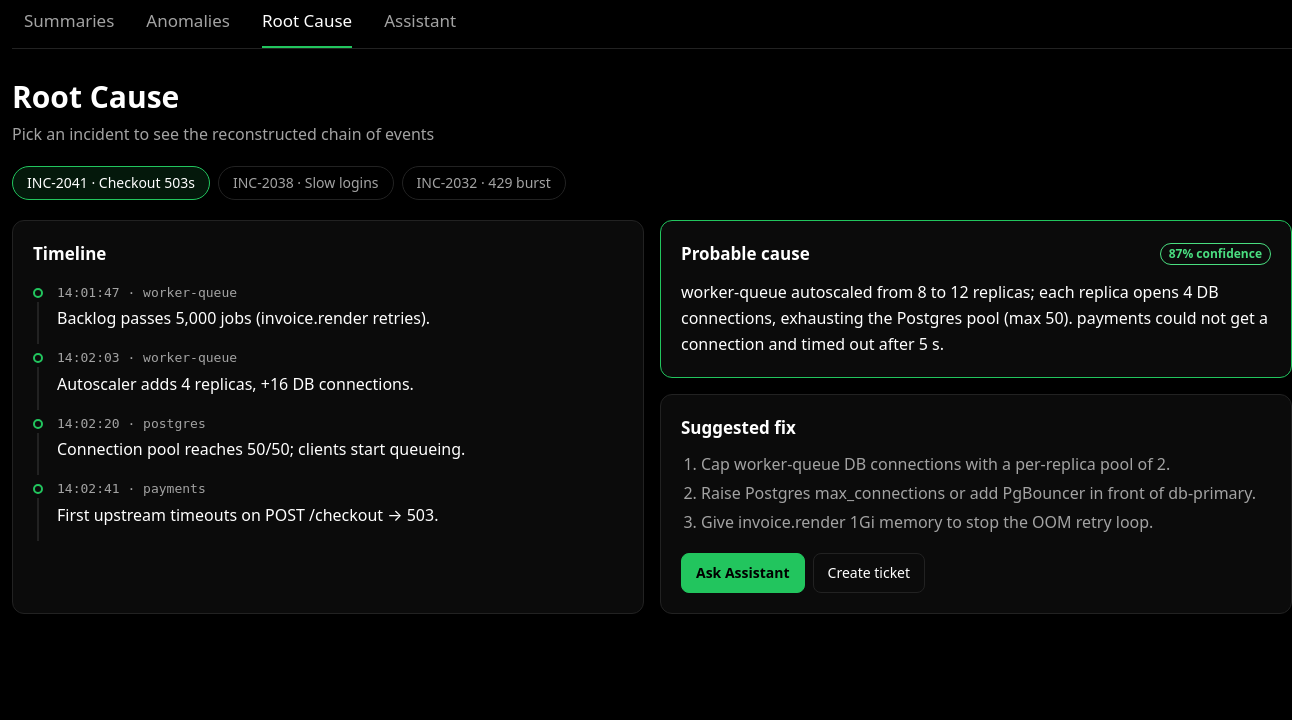
Test case: RootCausePage › switches the content when another incident is picked
Click the button "INC-2032 · 429 burst" at [484, 184], box [402,166,566,200]
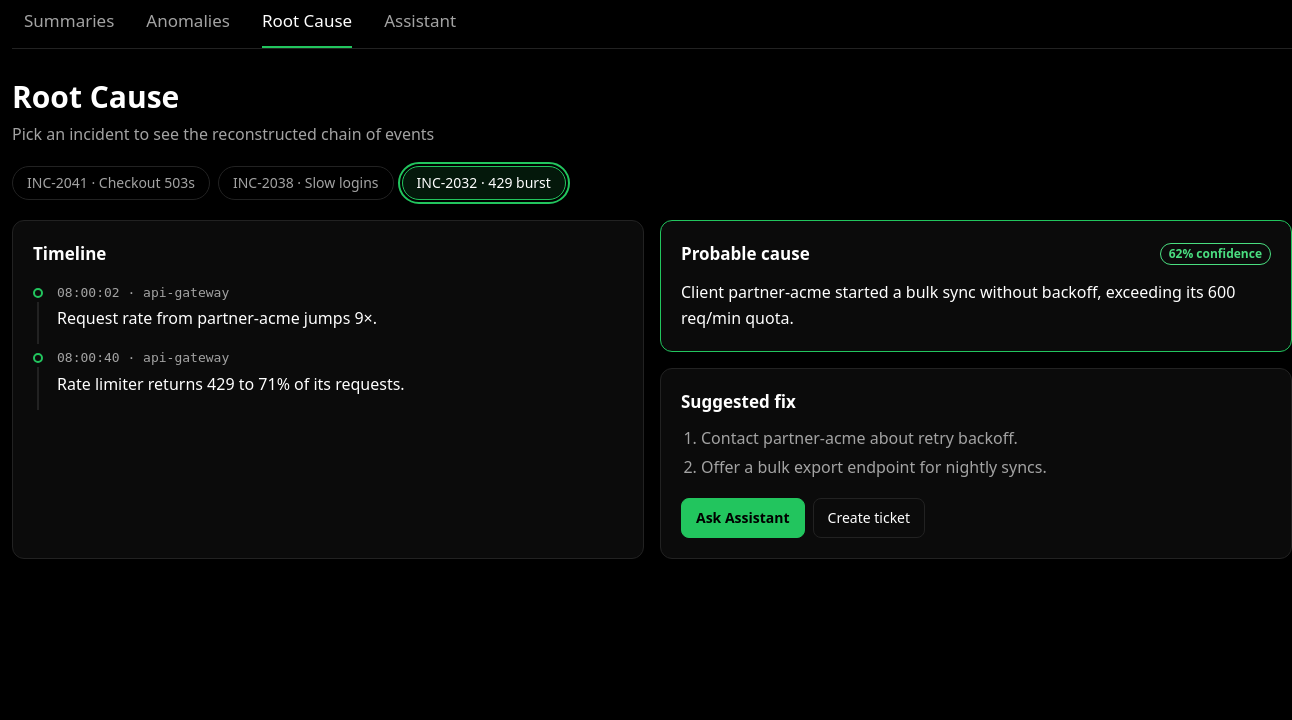
Check: the text "Client partner-acme started a bulk sync without backoff, exceeding its 600 req/min quota." is shown, box [681,281,1235,329]
Check: the text "worker-queue autoscaled from 8 to 12 replicas; each replica opens 4 DB connections, exhausting the Postgres pool (max 50" is gone
